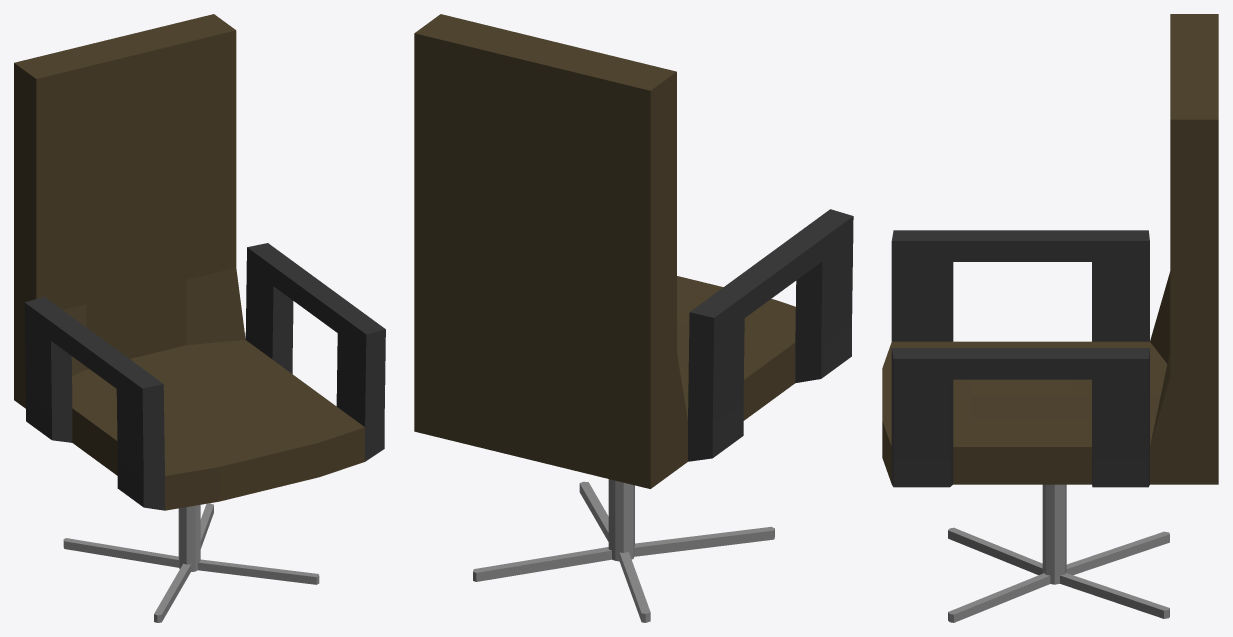
Rendered from Office Chair.fbx.
3 renders of one model, left to right at view 1: azimuth 30°, elevation 25°; view 2: azimuth 150°, elevation 25°; view 3: azimuth 270°, elevation 25°, orthographic. The views are drawn at different scales.
Parts seen in each view (by area): view 1: Office Chair; view 2: Office Chair; view 3: Office Chair.
Part boxes in pixels (x1=…): Office Chair: x1=14, y1=14, x2=385, y2=622; Office Chair: x1=414, y1=14, x2=853, y2=622; Office Chair: x1=882, y1=14, x2=1218, y2=622.
Bounding box in the file's own units: 76.66 × 143 × 84.72.
